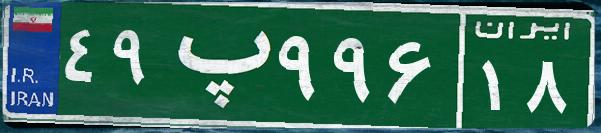1: (475, 38, 525, 113)
4: (57, 26, 110, 107)
6: (385, 28, 445, 110)
8: (525, 38, 570, 115)
9: (273, 28, 330, 110), (330, 28, 385, 110), (110, 28, 158, 105)
پ: (158, 15, 273, 115)
